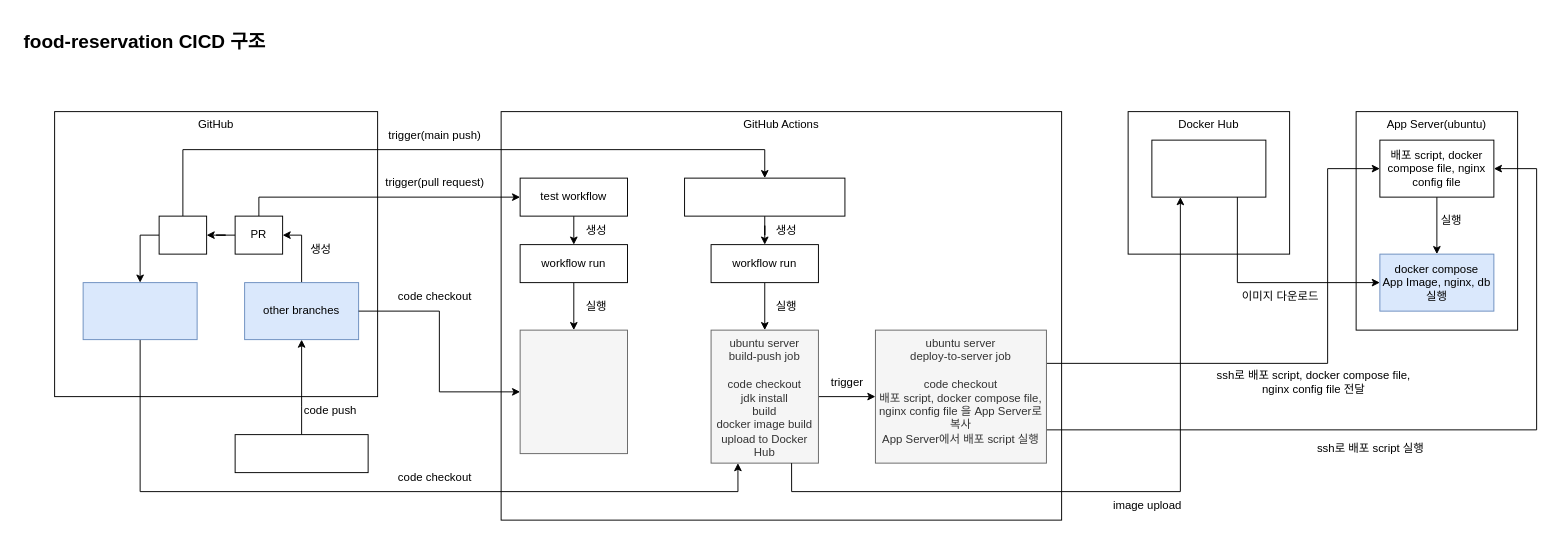
This 1561x537 diagram has some shape labels left out. The centre of each missing label's shape, as x and y in pixels:
"App Image" belongs at [1208,168].
"image-build-and-push-deploy workflow" belongs at [764,196].
"Local" belongs at [301,453].
"main branch" belongs at [139,311].
"merge" belongs at [182,234].
"ubuntu server test job code checkout jdk install build(test)" belongs at [573,391].
